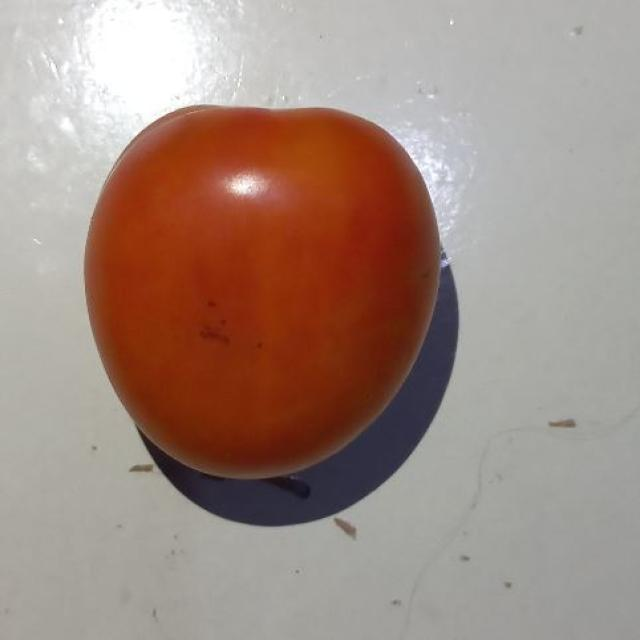ripe tomato: (77, 98, 449, 488)
